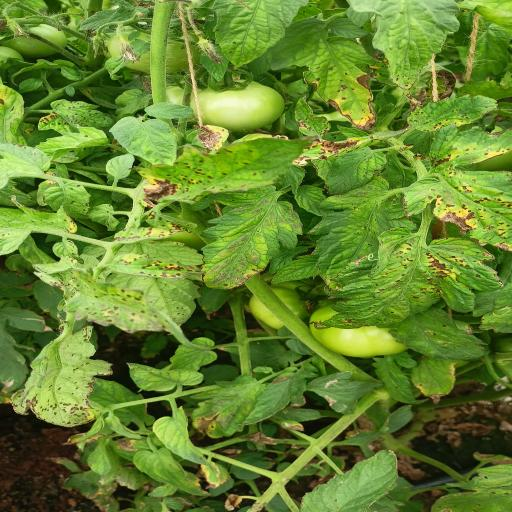Early Blight: (306, 226, 512, 332), (131, 133, 319, 206), (266, 12, 379, 133), (8, 324, 114, 429), (401, 170, 512, 254), (61, 266, 168, 334), (292, 128, 410, 166), (404, 92, 500, 136), (424, 123, 512, 169), (322, 146, 391, 196), (34, 100, 118, 136), (106, 252, 203, 282), (41, 181, 93, 222), (112, 224, 181, 246), (194, 124, 231, 153)
Leaf_Miner: (307, 370, 385, 416), (363, 251, 381, 263)
